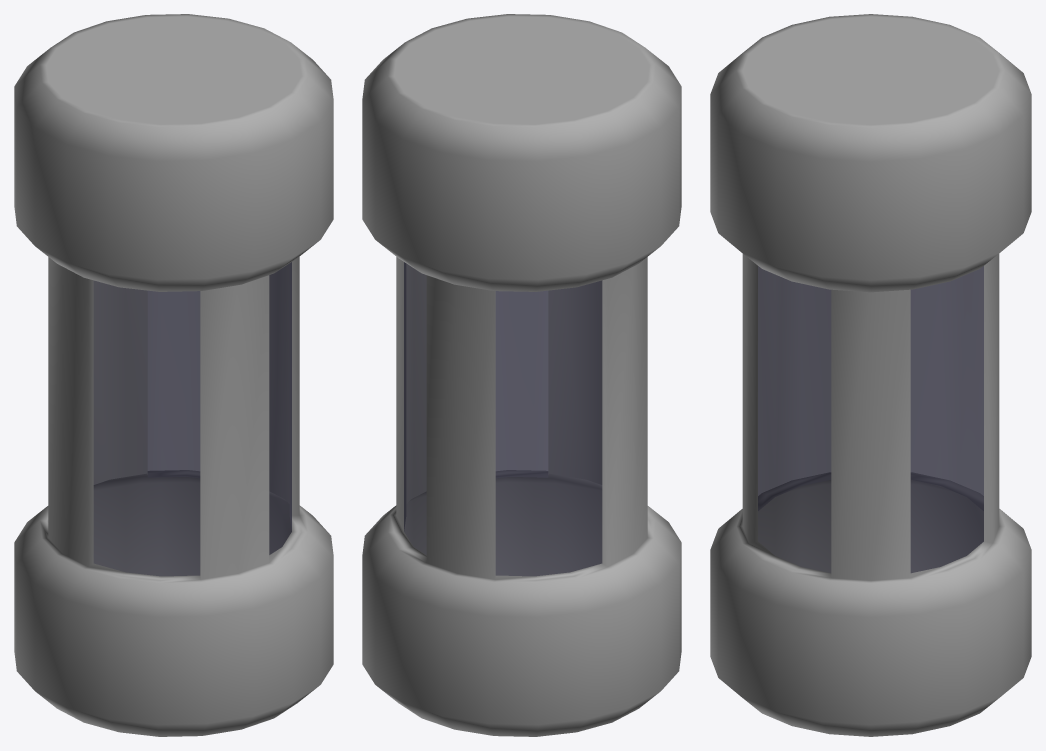
Rendered from Environment_Barrel_001_Blockout.fbx.
The picture shows the model from 3 angles, left to right: view 1: azimuth 30°, elevation 25°; view 2: azimuth 150°, elevation 25°; view 3: azimuth 270°, elevation 25°; orthographic projection.
Parts seen in each view (by area): view 1: pCylinder10; view 2: pCylinder10; view 3: pCylinder10.
Boxes of the visible parts, x1,y1,x2,y2 form: pCylinder10: (14, 14, 333, 736); pCylinder10: (362, 14, 681, 736); pCylinder10: (710, 14, 1031, 736).
Bounding box in the file's own units: 111 × 232 × 111.
